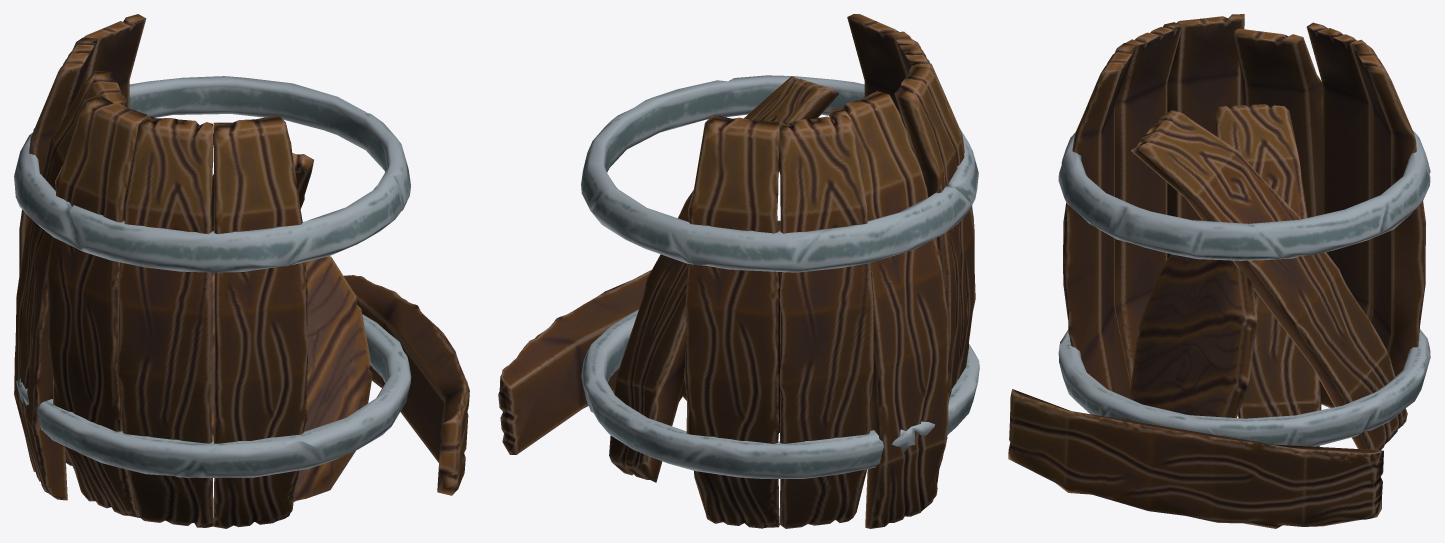
Rendered from Barrel2.glb.
3 renders of one model, left to right at view 1: azimuth 30°, elevation 25°; view 2: azimuth 150°, elevation 25°; view 3: azimuth 270°, elevation 25°, orthographic. The views are drawn at different scales.
Visible parts, largest first — view 1: Barrel1; view 2: Barrel1; view 3: Barrel1.
Part boxes in pixels (bbox=[...]): Barrel1: bbox=[14, 14, 469, 528]; Barrel1: bbox=[498, 14, 979, 528]; Barrel1: bbox=[1008, 14, 1430, 528].
Bounding box in the file's own units: 2 × 2 × 2.
1 material, 1 textured.
